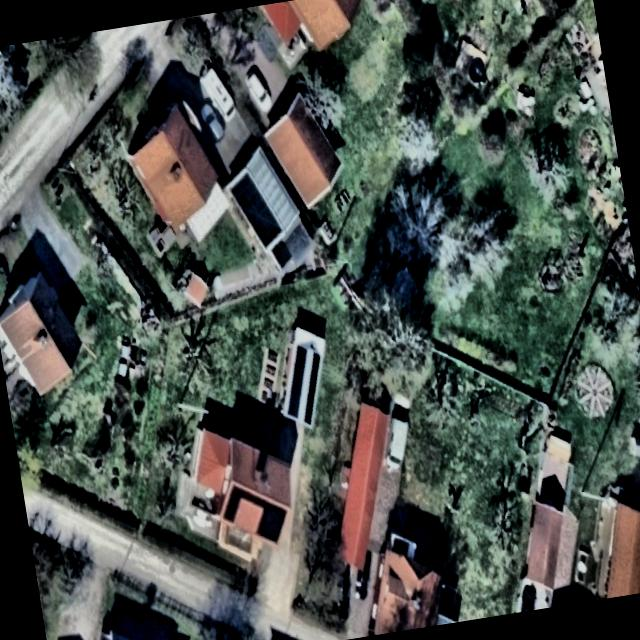roof_pv: (240, 207, 286, 256), (252, 496, 294, 548), (226, 169, 270, 215), (217, 482, 248, 528), (284, 341, 312, 384), (304, 344, 328, 394), (280, 385, 308, 422), (299, 384, 319, 431), (241, 481, 267, 509)
